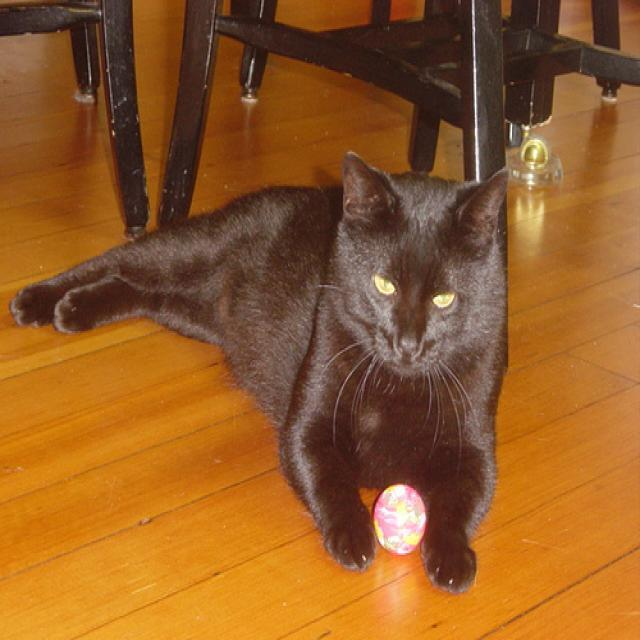Bombay: (325, 150, 519, 390)
